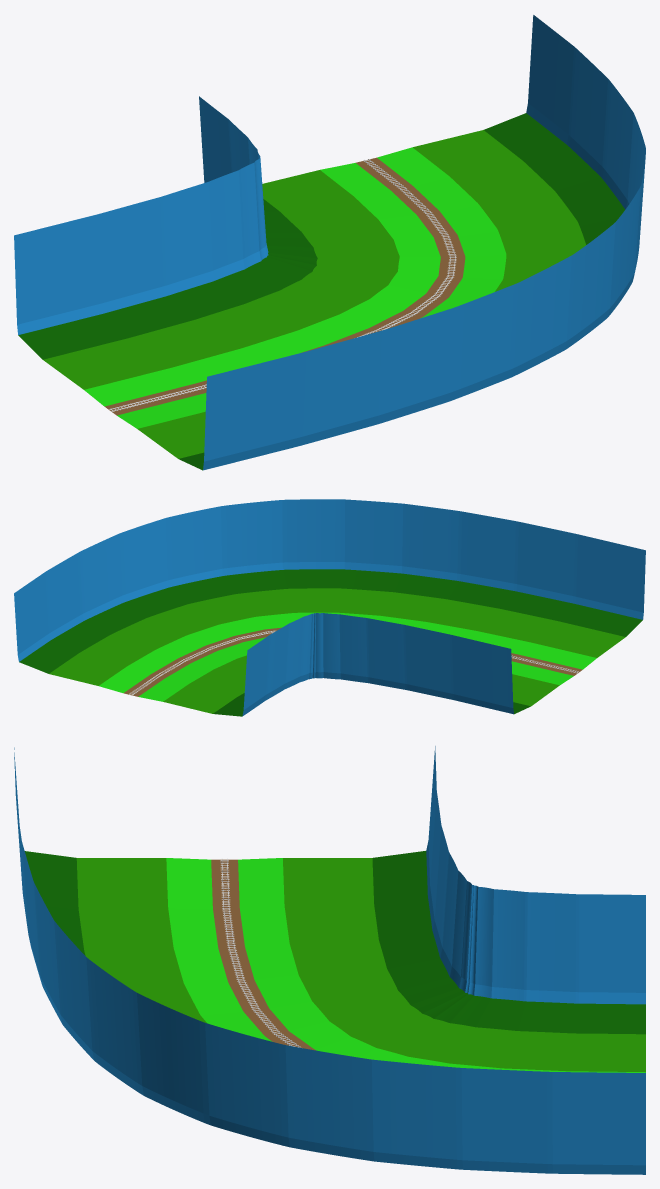
Rendered from A_Curve90_Left.fbx.
3 renders of one model, top to bottom at view 1: azimuth 30°, elevation 25°; view 2: azimuth 150°, elevation 25°; view 3: azimuth 270°, elevation 25°, orthographic. The views are drawn at different scales.
Visible parts, largest first — view 1: 90ºI; view 2: 90ºI; view 3: 90ºI.
Part boxes in pixels (box(x1,y1,x2,y2)): 90ºI: box(14, 15, 645, 470); 90ºI: box(14, 499, 645, 716); 90ºI: box(14, 746, 645, 1174).
Size of the model in its own units: 18420 by 3000 by 15004.
